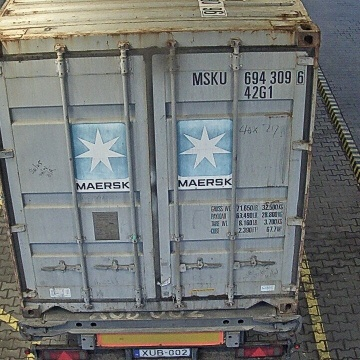serial_id: (193, 70, 305, 84)
